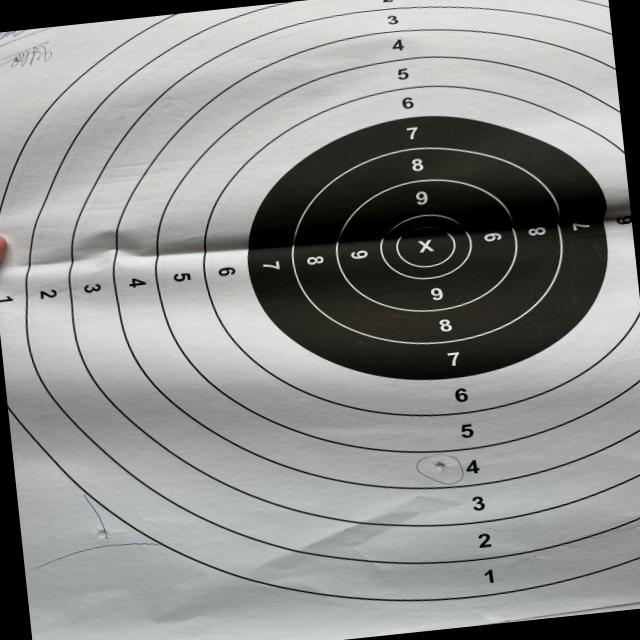bullet: (95, 528, 109, 541), (435, 461, 445, 471)
target: (0, 0, 640, 640)
